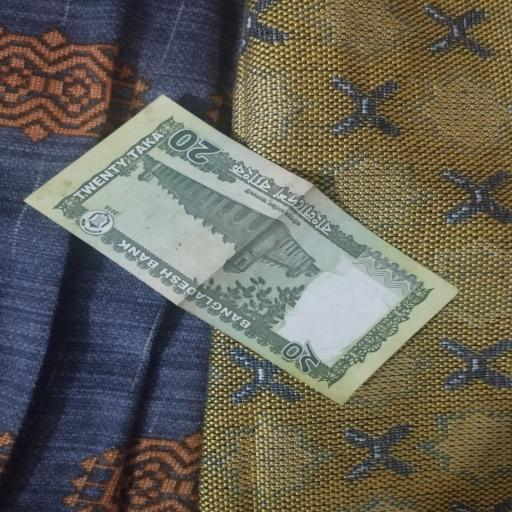20taka: (26, 95, 465, 402)
